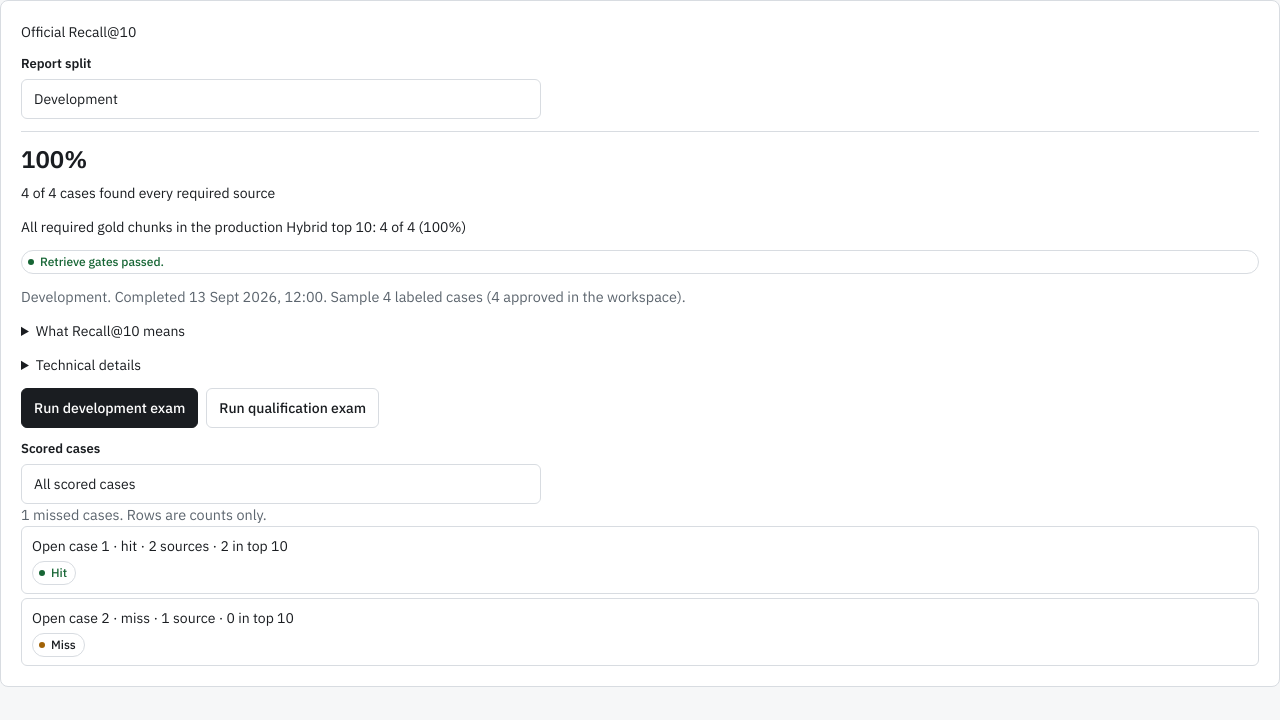
EvaluationExamBoard › renders a passing official report with production-corpus copy
Expected: the text "All required gold chunks in the production Hybrid top 10: 4 of 4 (100%)" is shown, [21, 218, 466, 236]
Expected: the text "Retrieve gates passed." is shown, [40, 254, 164, 270]
Click the heading "Technical details" at (88, 365), box [36, 356, 141, 374]
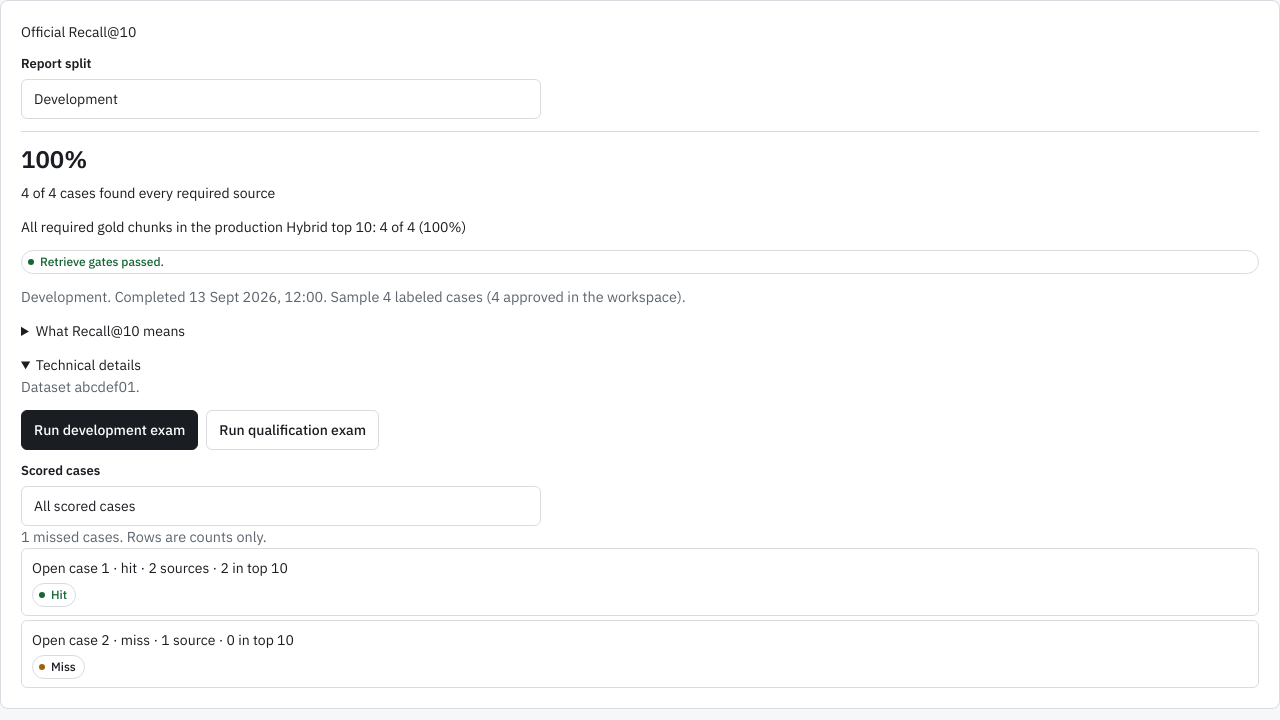
Result: the text "Dataset abcdef01." is shown at [21, 377, 140, 396]
